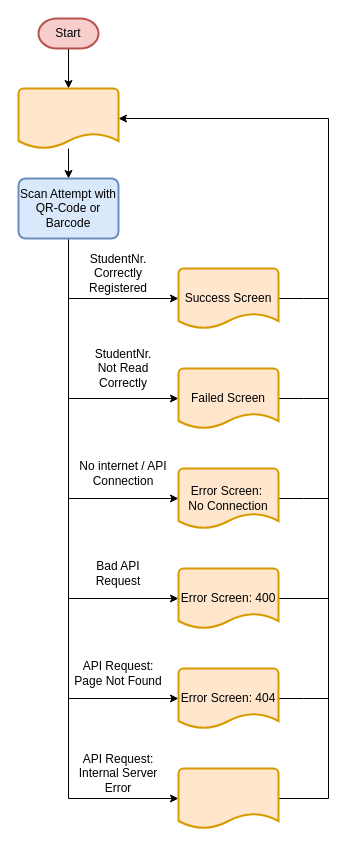
Image size: 354x846. Some labels were removed from this diagram. Here are the shapes that lost their labels. From the top down, the centre of each, then its label:
the point at 68,118: Home Screen
the point at 228,798: Error Screen: 500
